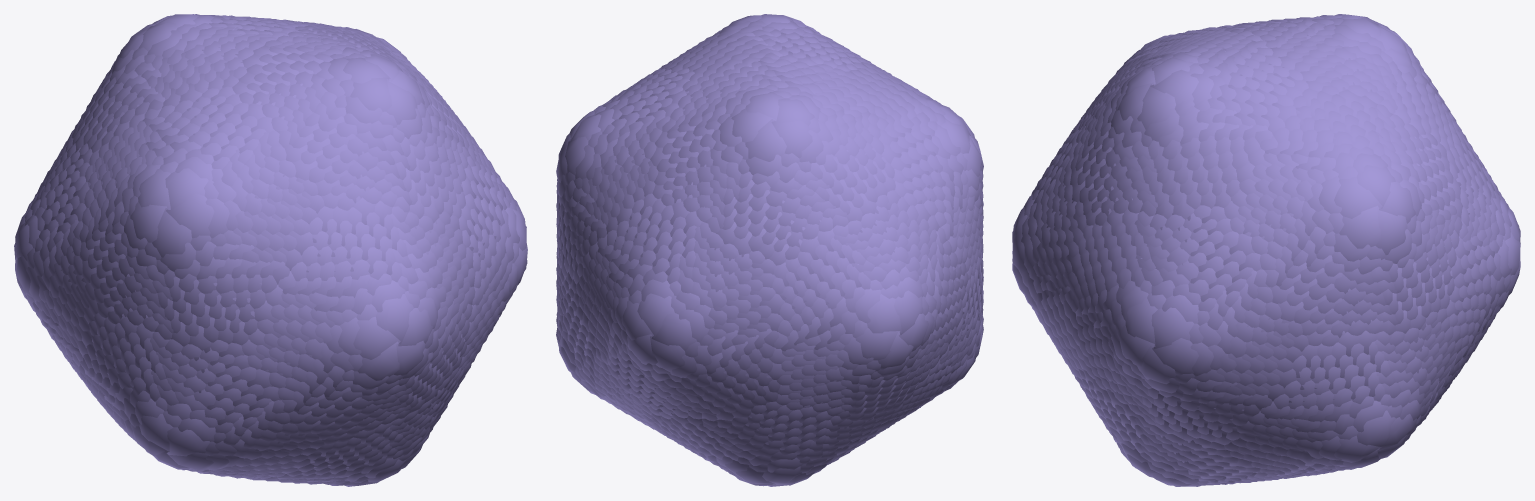
The model's file is faust_1200_1_draco.glb.
3 views of the same model, side by side, from view 1: azimuth 30°, elevation 25°; view 2: azimuth 150°, elevation 25°; view 3: azimuth 270°, elevation 25° (orthographic). The views are drawn at different scales.
Visible parts, largest first — view 1: 5j7v.cif assembly 1_A Gaussian surface; view 2: 5j7v.cif assembly 1_A Gaussian surface; view 3: 5j7v.cif assembly 1_A Gaussian surface.
Part boxes in pixels (x1=…): 5j7v.cif assembly 1_A Gaussian surface: x1=14, y1=14, x2=527, y2=486; 5j7v.cif assembly 1_A Gaussian surface: x1=556, y1=14, x2=983, y2=486; 5j7v.cif assembly 1_A Gaussian surface: x1=1012, y1=14, x2=1520, y2=486.
Size of the model in its own units: 2802 by 2713 by 2990.
